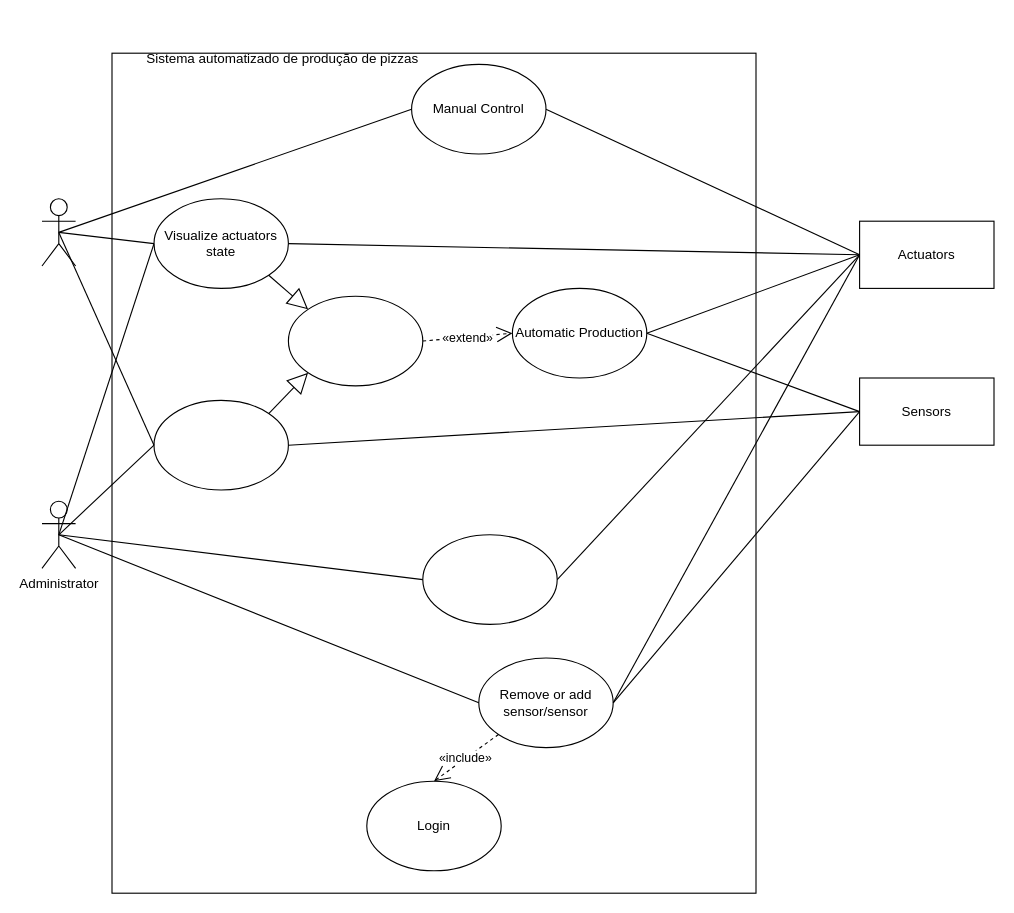
The diagram is 1014 pixels wide and 913 high, and some of its shapes have lost their labels. Each missing label, with the centre of its shape:
Define system rules: point 489,579
Visualize sensors data: point 220,444
Visualize system info: point 355,340
Worker: point 58,232
